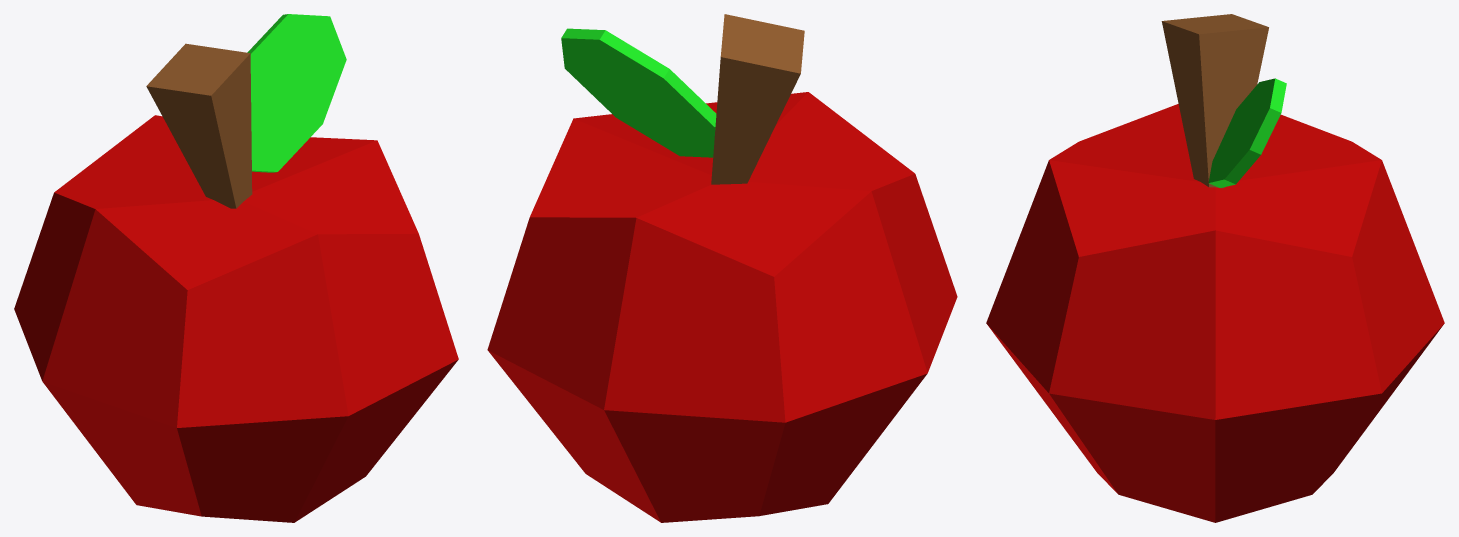
The model's file is apple.fbx.
3 renders of one model, left to right at view 1: azimuth 30°, elevation 25°; view 2: azimuth 150°, elevation 25°; view 3: azimuth 270°, elevation 25°, orthographic. The views are drawn at different scales.
Visible parts, largest first — view 1: Cube; view 2: Cube; view 3: Cube.
Part boxes in pixels (x1,y1,x2,y2): Cube: [14, 14, 458, 522]; Cube: [487, 14, 957, 522]; Cube: [986, 14, 1444, 522].
Bounding box in the file's own units: 192 × 221 × 192.
